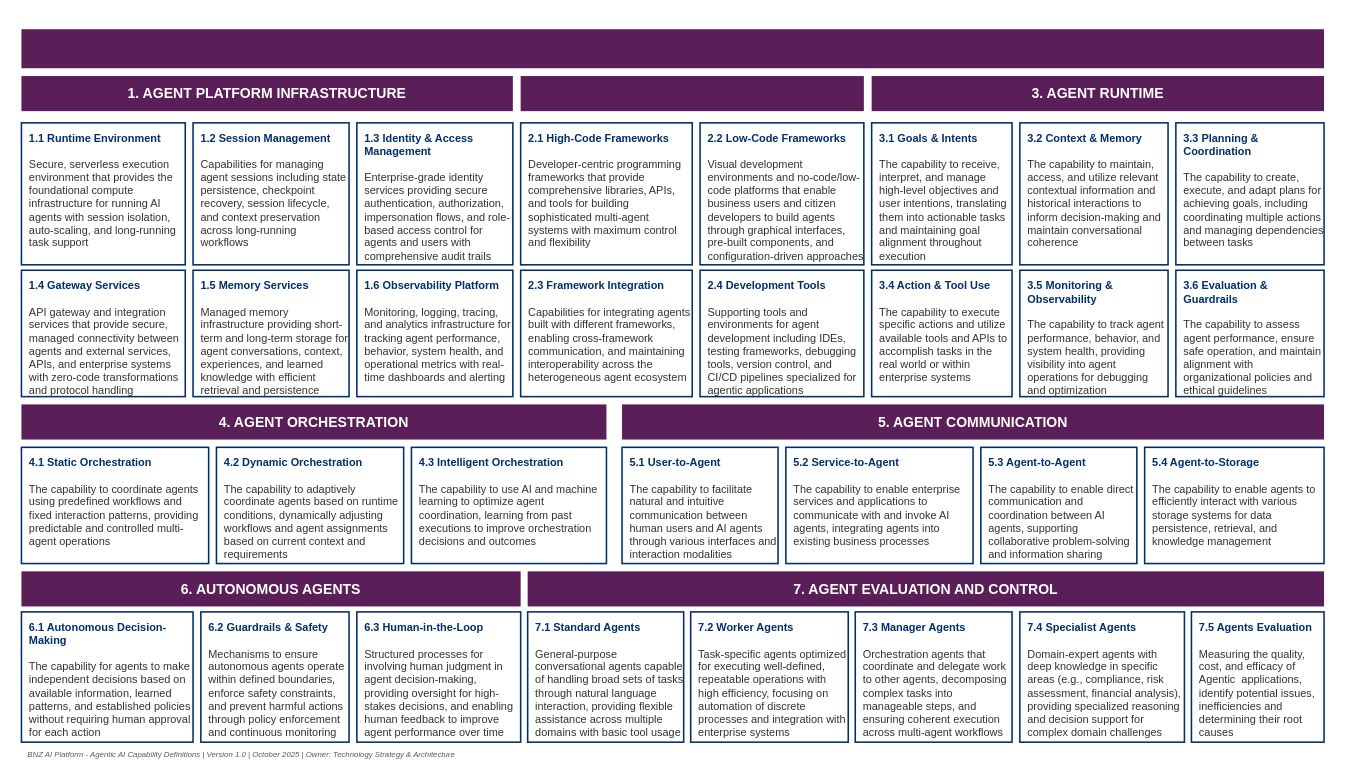
Image size: 1353x775. Some labels were removed from this diagram. Here are the shapes that lost their labels. From the top down, the centre of each, then its label:
point 672,48: BNZ AI Platform: Agentic AI Capabilities & Definitions
point 691,93: 2. AGENT DEVELOPMENT FRAMEWORKS
